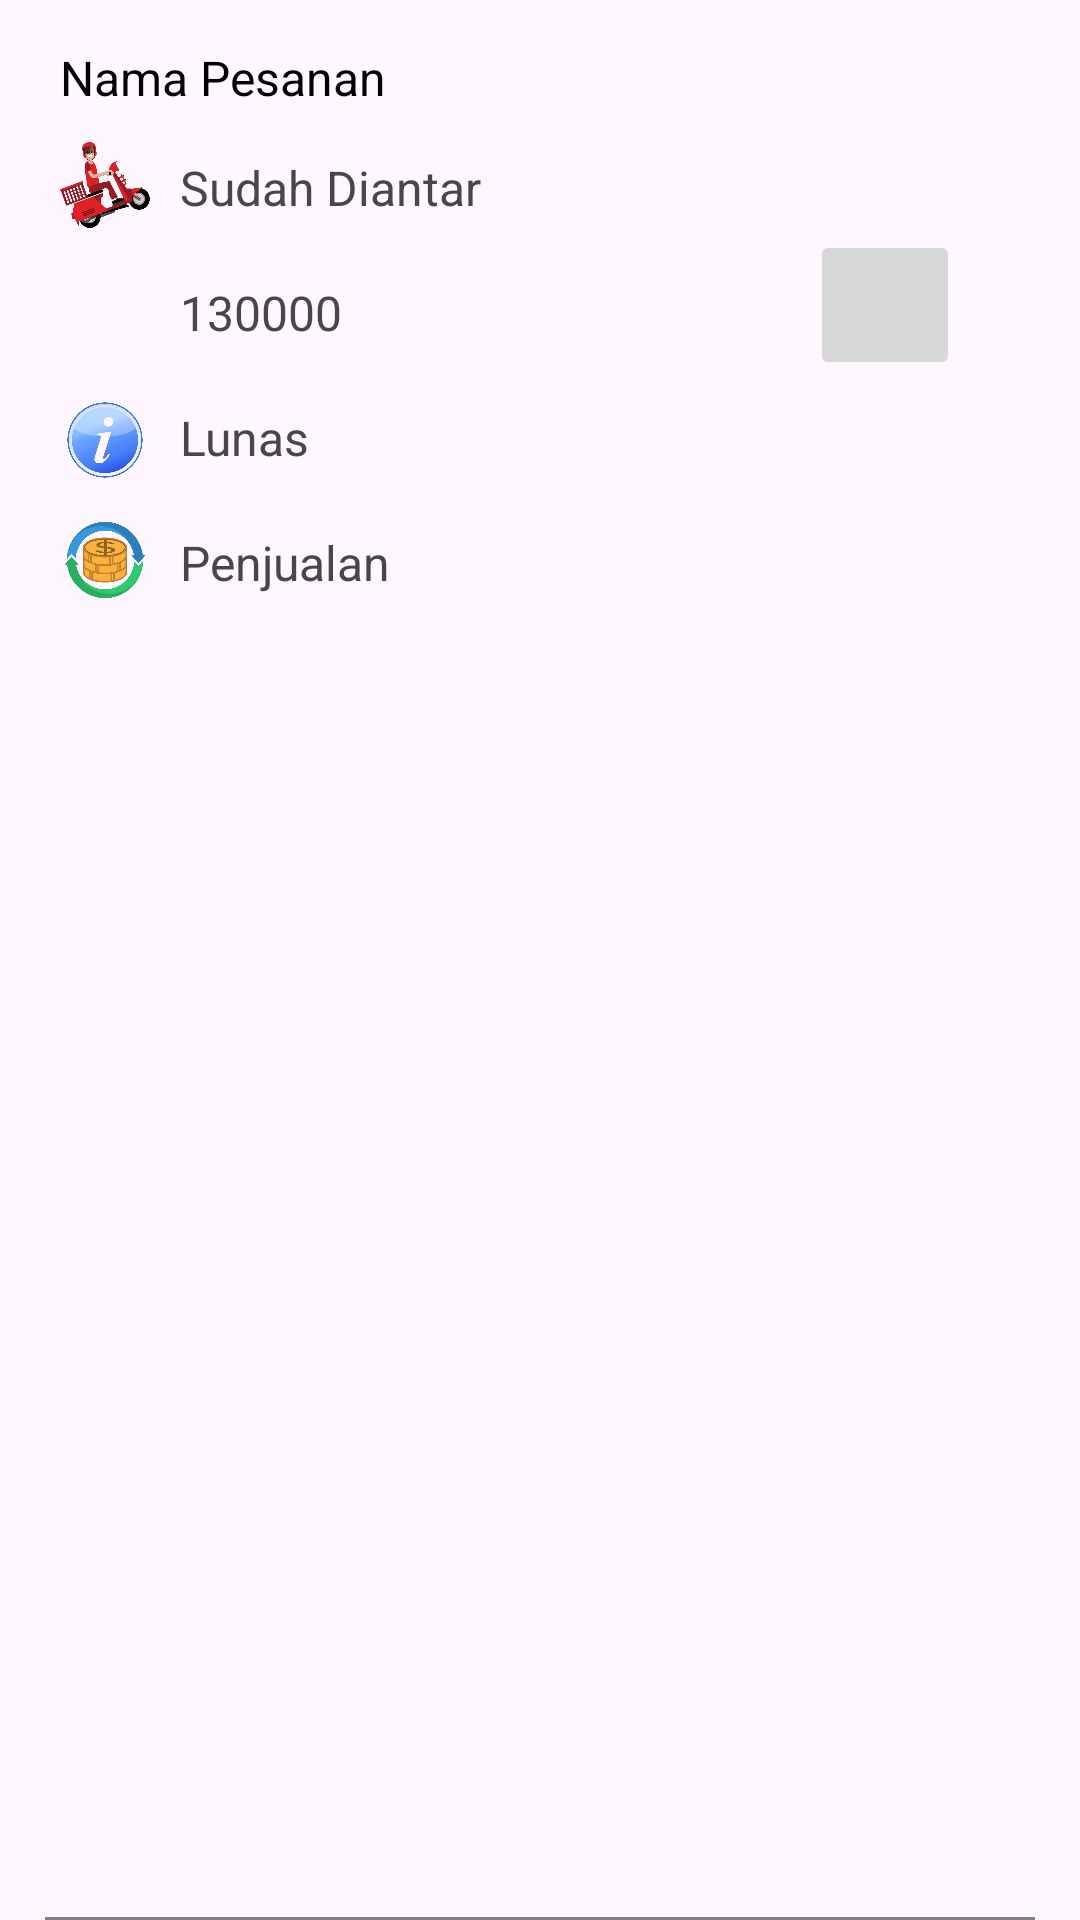

Screen size 1080px×1920px. Icon name, then its center in pixels as (x=x, y=y):
delivery: (x=105, y=185)
status info: (x=105, y=440)
status transaksi: (x=105, y=560)
